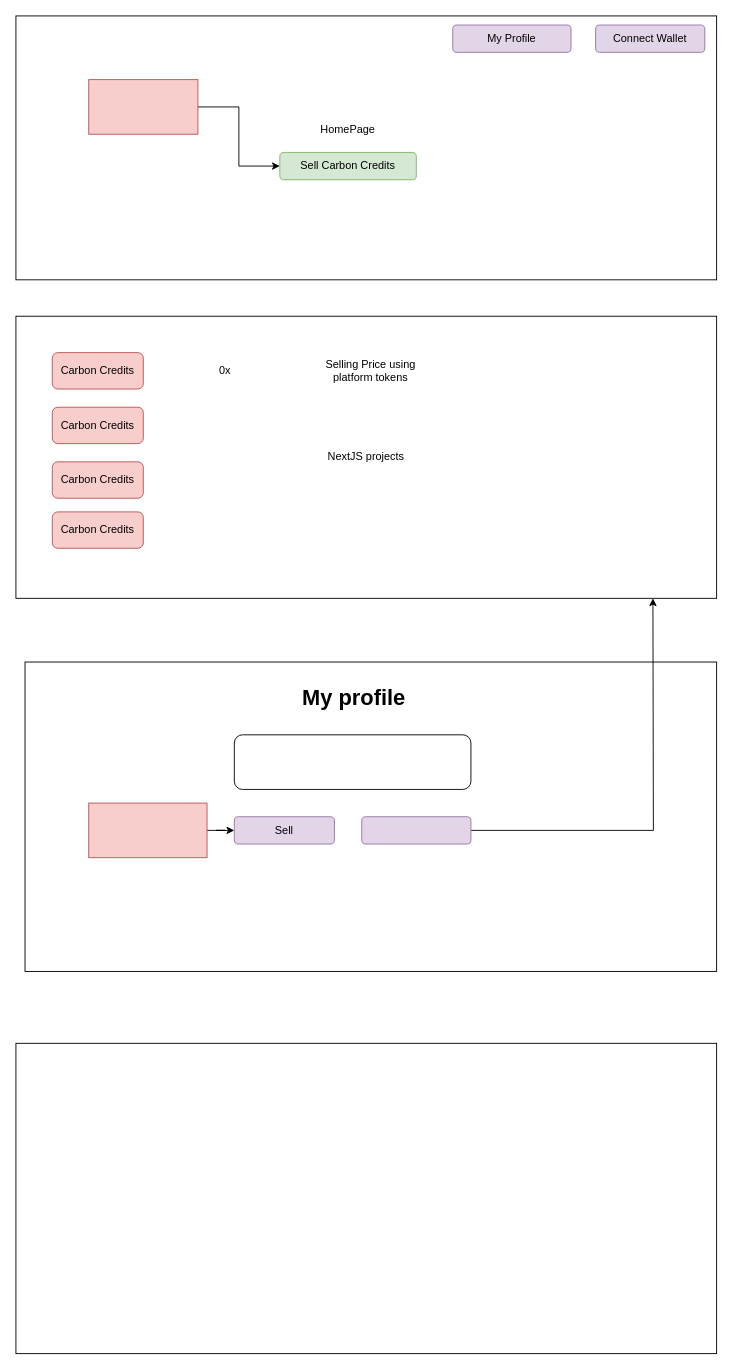
Some shapes in this 733 by 1370 pixel diagram are drawn without their labels. Here are the shapes that lost their labels. From the top down, the centre of each, then its label:
At pixel 143 106: "Form Pop-up to Sell".
At pixel 352 761: "Whole Info of transactions".
At pixel 147 830: "Form No. Of Tokens to Sell".
At pixel 416 830: "Buy".
At pixel 366 1198: "Swapping Tokens with Crypto".
